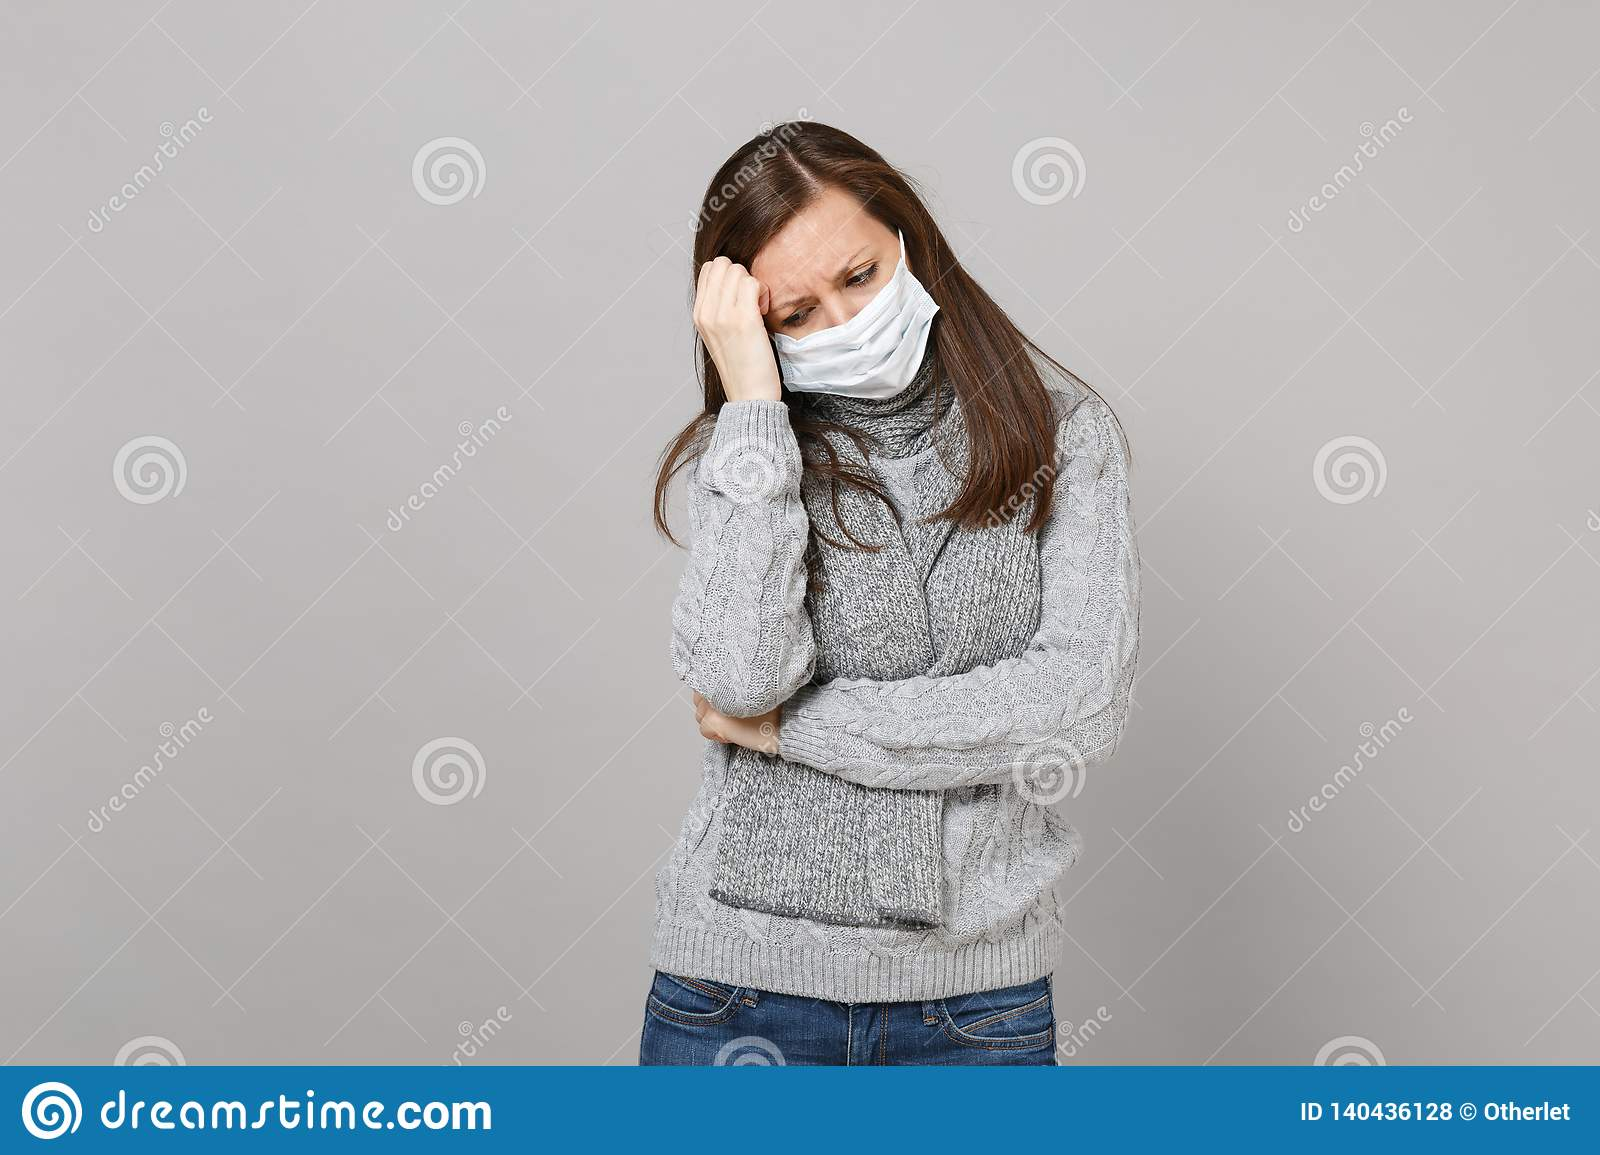mask: (770, 260, 943, 409)
